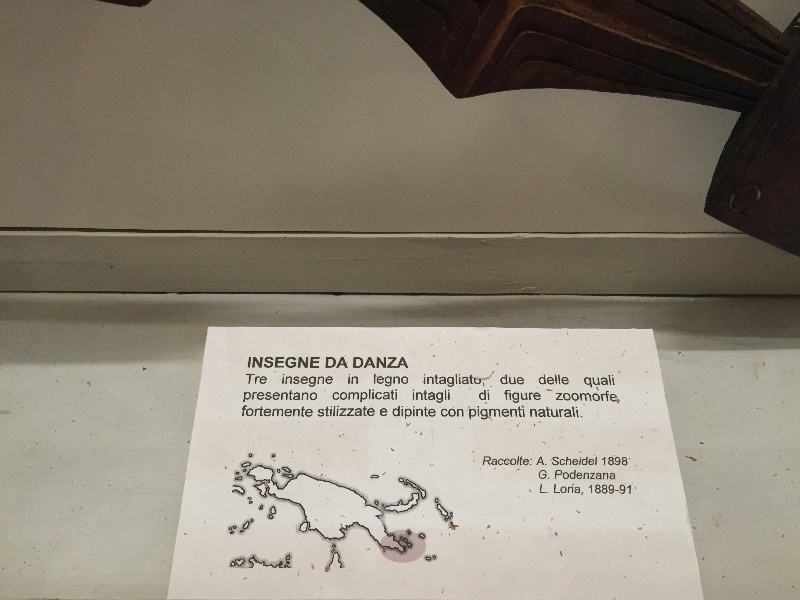text: (289, 373, 304, 388), (305, 373, 320, 388), (417, 389, 432, 404), (433, 389, 448, 404), (513, 389, 528, 404), (481, 406, 496, 421), (497, 406, 512, 421), (401, 405, 416, 420), (417, 405, 432, 420), (385, 374, 400, 388), (433, 374, 448, 388), (449, 374, 464, 388), (465, 374, 480, 388), (337, 389, 352, 403), (353, 389, 368, 403), (369, 389, 384, 403), (593, 375, 608, 388), (257, 390, 272, 403), (273, 390, 288, 403), (289, 390, 304, 403), (321, 405, 336, 418), (337, 405, 352, 418), (353, 405, 368, 418), (257, 405, 272, 418), (273, 405, 288, 418), (289, 405, 304, 418), (385, 389, 398, 403), (321, 373, 333, 388), (545, 374, 560, 386), (529, 389, 541, 404), (545, 406, 560, 418), (561, 406, 576, 418), (513, 406, 525, 421), (561, 484, 576, 496), (243, 405, 256, 418), (530, 406, 544, 418), (257, 357, 272, 368), (273, 357, 288, 368), (289, 357, 304, 368), (305, 357, 320, 368), (353, 357, 368, 368), (369, 357, 384, 368), (385, 357, 400, 368), (561, 391, 576, 402), (577, 391, 592, 402), (593, 391, 608, 402), (469, 406, 480, 421), (497, 456, 512, 467), (513, 456, 528, 467), (561, 470, 576, 481), (577, 470, 592, 481), (593, 470, 608, 481), (593, 484, 608, 495), (609, 484, 624, 495), (305, 390, 317, 403), (245, 390, 256, 403), (374, 374, 384, 388), (449, 409, 464, 418), (561, 457, 576, 466), (577, 457, 592, 466), (609, 457, 624, 466), (337, 357, 348, 369), (484, 456, 496, 467), (501, 375, 512, 386), (513, 375, 524, 386), (326, 357, 336, 369), (504, 389, 512, 404), (401, 374, 409, 388), (424, 374, 432, 388), (246, 374, 256, 385), (257, 374, 267, 385), (393, 405, 400, 420), (584, 375, 592, 388), (305, 405, 313, 418), (481, 390, 490, 401), (609, 391, 618, 402), (561, 374, 569, 386), (401, 357, 409, 368), (609, 375, 615, 388), (369, 405, 375, 418), (249, 357, 256, 368), (283, 373, 288, 388), (577, 406, 583, 418), (552, 457, 560, 466), (577, 484, 583, 496), (609, 470, 615, 481), (625, 484, 631, 495), (441, 409, 448, 418), (353, 373, 358, 385), (539, 374, 544, 386), (555, 484, 560, 496), (481, 374, 485, 388), (555, 391, 560, 402), (555, 470, 560, 481), (602, 457, 608, 466), (539, 470, 544, 480), (545, 470, 550, 480), (348, 373, 352, 385), (413, 389, 416, 404), (433, 405, 436, 420), (593, 457, 598, 466), (529, 456, 533, 467), (588, 484, 592, 495), (333, 389, 336, 403), (545, 484, 549, 494), (380, 408, 384, 417), (540, 457, 544, 466), (449, 389, 451, 404), (541, 484, 544, 494), (385, 408, 388, 417), (625, 457, 628, 466), (545, 457, 547, 466), (319, 405, 320, 418), (479, 390, 480, 401)
